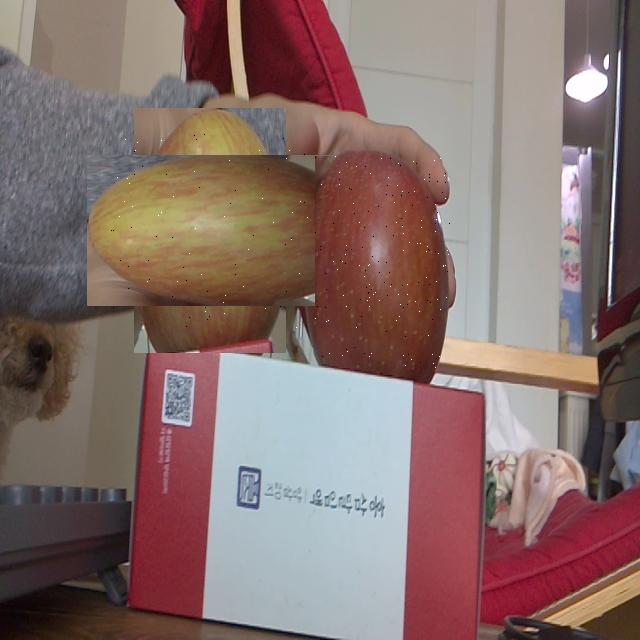apple: (111, 131, 309, 330), (315, 156, 451, 369)
